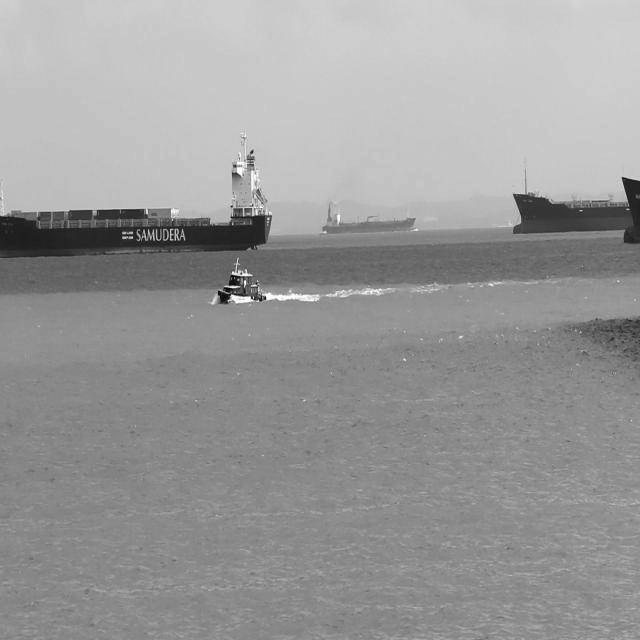ship: (0, 126, 272, 256), (510, 164, 630, 233), (321, 200, 417, 235), (218, 257, 268, 302), (619, 173, 640, 242), (319, 226, 330, 234)
